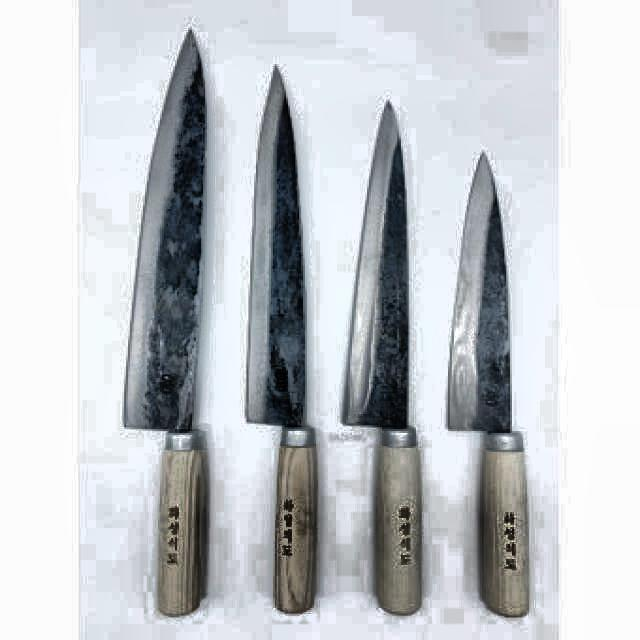knife: (122, 24, 214, 614), (339, 98, 426, 620), (446, 150, 538, 612), (241, 62, 318, 611)
